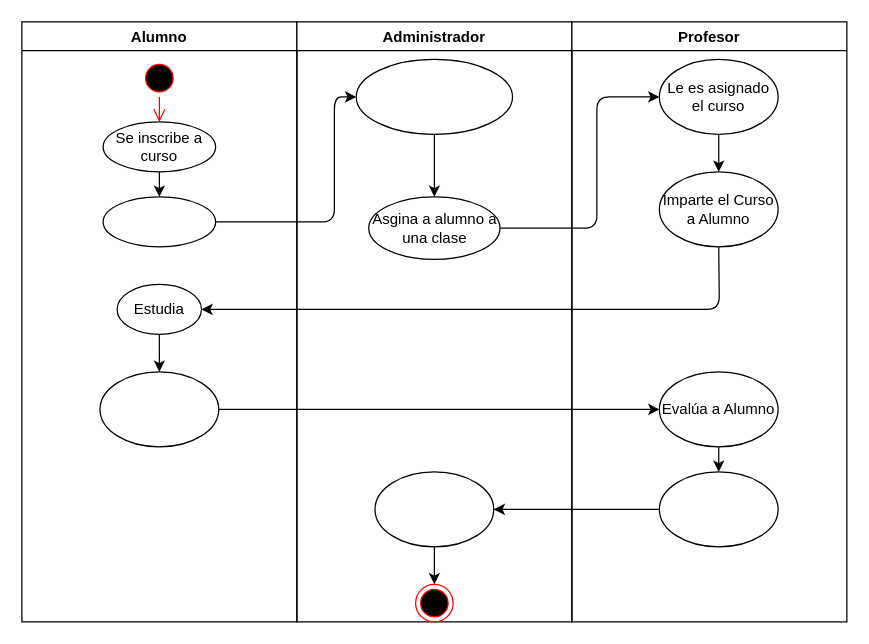
Image size: 869x644. Some labels were removed from this diagram. Here are the shapes that lost their labels. From the top down, the centre of each, then its label:
At [433,96]: "Da de alta los datos del alumno".
At [159,221]: "Envía sus datos".
At [159,409]: "Es evaluado por el profesor".
At [434,509]: "Registra Calificaciones".
At [718,509]: "Sube Calificaciones al sistema".
